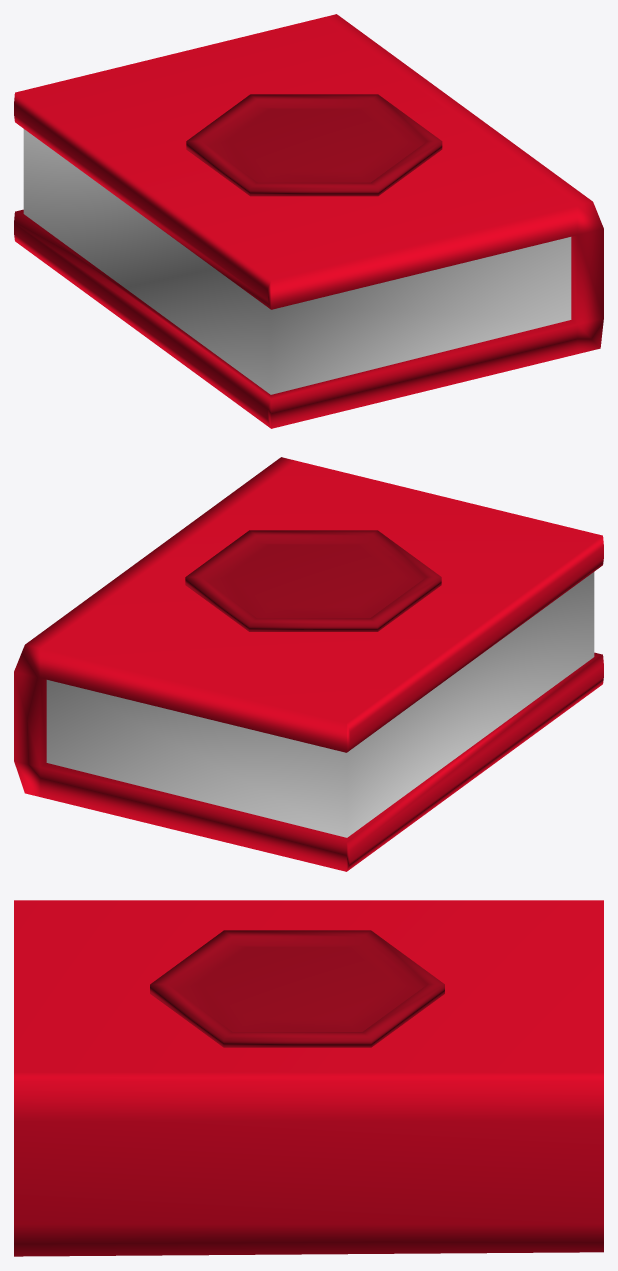
Rendered from Livro com Glifo.fbx.
3 views of the same model, one above another, from view 1: azimuth 30°, elevation 25°; view 2: azimuth 150°, elevation 25°; view 3: azimuth 270°, elevation 25° (orthographic). The views are drawn at different scales.
Visible parts, largest first — view 1: Livro Grande com glifo.003; view 2: Livro Grande com glifo.003; view 3: Livro Grande com glifo.003.
Part boxes in pixels (x1,y1,x2,y2): Livro Grande com glifo.003: [14, 14, 603, 428]; Livro Grande com glifo.003: [14, 457, 603, 871]; Livro Grande com glifo.003: [14, 900, 603, 1256].
Bounding box in the file's own units: 13.65 × 6.15 × 18.09.
